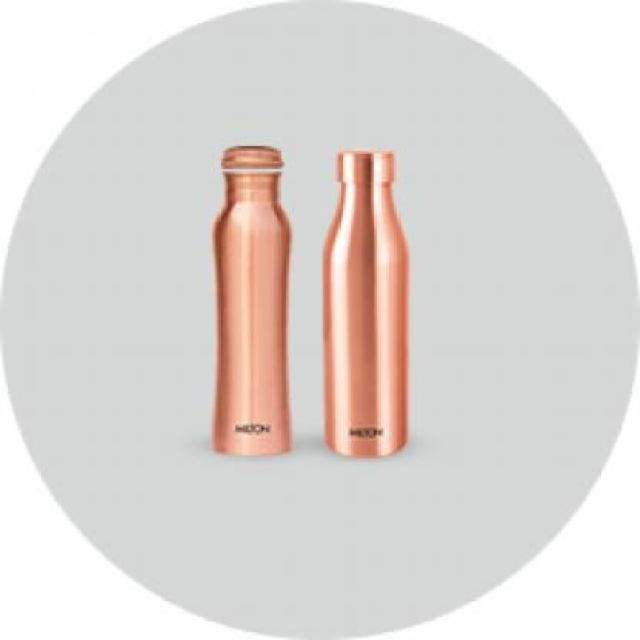Drinking: (323, 146, 420, 472), (208, 136, 302, 470)
